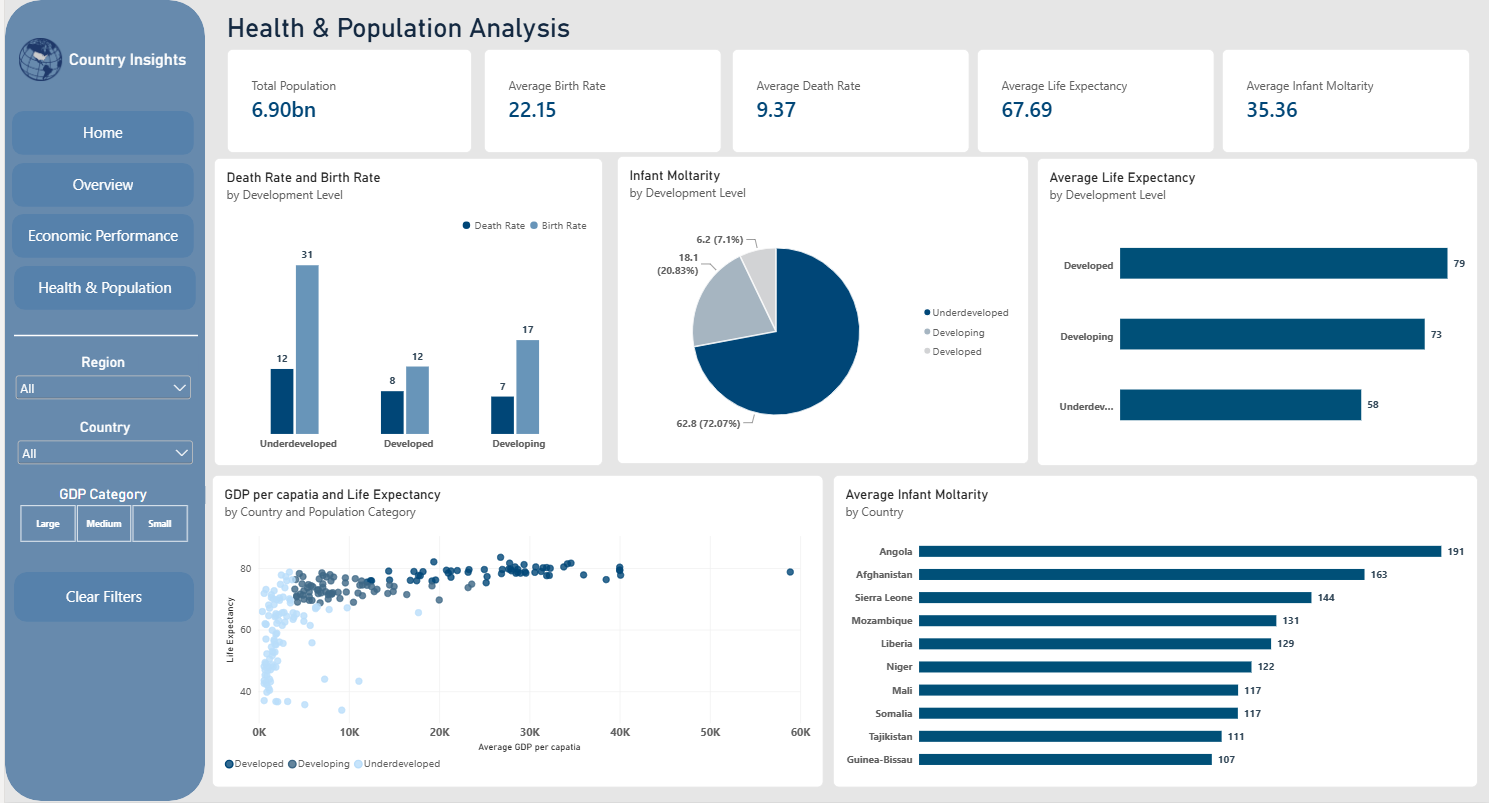

The dashboard page shown, as its layout file describes it:
{"tool":"powerbi","page":{"name":" Health & Population Analysis","canvas":[2000,1080],"ordinal":3},"visuals":[{"type":"shape","box":[0,0,269.5,1079.5],"z":0,"group":"g1"},{"type":"cardVisual","fields":{"Data":["DAX measures.Average Birth Rate"]},"box":[645.6,66,320,140],"z":0},{"type":"image","box":[0,51.2,95.7,58],"z":1000,"group":"g1"},{"type":"cardVisual","fields":{"Data":["DAX measures.Average Life Expectancy"]},"box":[1310,66,320,140],"z":1000},{"type":"cardVisual","fields":{"Data":["DAX measures.Average Infant Moltarity"]},"box":[1640.2,66,334.2,140.2],"z":2000},{"type":"textbox","title":"Country Insights","box":[86.3,67.4,168.5,39.1],"z":2000,"group":"g1"},{"type":"cardVisual","fields":{"Data":["DAX measures.Total Population"]},"box":[299.2,66,330.2,140.2],"z":3000},{"type":"shape","box":[12.1,301.9,248,300.5],"z":3000,"group":"g1"},{"type":"cardVisual","fields":{"Data":["DAX measures.Average Death Rate"]},"box":[979.8,66,320,140],"z":4000},{"type":"group","id":"g1","title":"Group 1","box":[0,0,269.5,1079.5],"z":5000},{"type":"actionButton","box":[9.4,149.6,245.3,59.3],"z":6000},{"type":"actionButton","box":[9.4,219.7,245.3,59.3],"z":7000},{"type":"actionButton","box":[9.4,288.4,245.3,59.3],"z":8000},{"type":"actionButton","box":[12.1,358.5,245.3,59.3],"z":9000},{"type":"slicer","title":"Region","fields":{"Values":["Country Data Comparison.Country_Region_Mapping.Region"]},"box":[9.4,477.1,250.7,74.1],"z":10000},{"type":"slicer","title":"Country","fields":{"Values":["Country Data Comparison.Country"]},"box":[12.1,564.7,250.7,74.1],"z":11000},{"type":"slicer","title":"GDP Category","fields":{"Values":["Country Data Comparison.GDP Category"]},"box":[0,655,269.5,76.8],"z":12000},{"type":"textbox","title":" Health & Population Analysis","box":[299.2,16.2,578.2,51.2],"z":13000},{"type":"clusteredColumnChart","fields":{"Category":["Country Data Comparison.Development Level"],"Y":["DAX measures.Average Death Rate","DAX measures.Average Birth Rate"]},"box":[281.2,212.8,524.3,414.9],"z":14000},{"type":"actionButton","box":[12.1,770.9,242.6,67.4],"z":15000},{"type":"scatterChart","title":"GDP per capatia and  Life Expectancy","fields":{"Category":["Country Data Comparison.Country"],"Series":["Country Data Comparison.Development Level"],"X":["DAX measures.Average GDP per capatia"],"Y":["DAX measures.Average Life Expectancy"]},"box":[279.6,639.8,823.7,421],"z":16000},{"type":"clusteredBarChart","fields":{"Category":["Country Data Comparison.Development Level"],"Y":["DAX measures.Average Life Expectancy"]},"box":[1390.6,212.8,594.2,414.9],"z":17000},{"type":"pieChart","title":" Infant Moltarity","fields":{"Category":["Country Data Comparison.Development Level"],"Y":["DAX measures.Average Infant Moltarity"]},"box":[825.2,209.7,554.7,414.9],"z":18000},{"type":"clusteredBarChart","fields":{"Category":["Country Data Comparison.Country"],"Y":["DAX measures.Average Infant Moltarity"]},"box":[1115.5,639.8,869.3,421],"z":19000}]}

Visuals, with their boxes on the page's 2000x1080 design canvas (x1, y1, x2, y2). These are canvas units, not pixel positions in the 1489x803 screenshot, which may show the page scaled, cropped or inside an application window:
shape: Rect(0, 0, 270, 1080)
cardVisual - DAX measures.Average Birth Rate: Rect(646, 66, 966, 206)
image: Rect(0, 51, 96, 109)
cardVisual - DAX measures.Average Life Expectancy: Rect(1310, 66, 1630, 206)
cardVisual - DAX measures.Average Infant Moltarity: Rect(1640, 66, 1974, 206)
"Country Insights" textbox: Rect(86, 67, 255, 106)
cardVisual - DAX measures.Total Population: Rect(299, 66, 629, 206)
shape: Rect(12, 302, 260, 602)
cardVisual - DAX measures.Average Death Rate: Rect(980, 66, 1300, 206)
"Group 1" group: Rect(0, 0, 270, 1080)
actionButton: Rect(9, 150, 255, 209)
actionButton: Rect(9, 220, 255, 279)
actionButton: Rect(9, 288, 255, 348)
actionButton: Rect(12, 358, 257, 418)
"Region" slicer: Rect(9, 477, 260, 551)
"Country" slicer: Rect(12, 565, 263, 639)
"GDP Category" slicer: Rect(0, 655, 270, 732)
" Health & Population Analysis" textbox: Rect(299, 16, 877, 67)
clusteredColumnChart - Country Data Comparison.Development Level x DAX measures.Average Death Rate: Rect(281, 213, 806, 628)
actionButton: Rect(12, 771, 255, 838)
"GDP per capatia and  Life Expectancy" scatterChart: Rect(280, 640, 1103, 1061)
clusteredBarChart - Country Data Comparison.Development Level x DAX measures.Average Life Expectancy: Rect(1391, 213, 1985, 628)
" Infant Moltarity" pieChart: Rect(825, 210, 1380, 625)
clusteredBarChart - Country Data Comparison.Country x DAX measures.Average Infant Moltarity: Rect(1116, 640, 1985, 1061)
